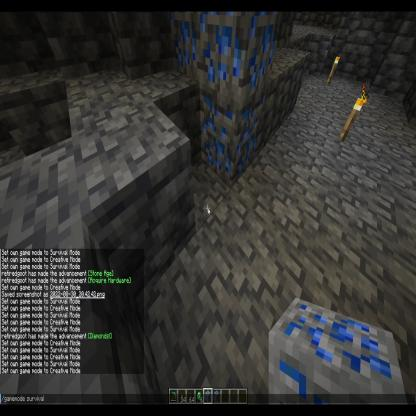lapis ore: (264, 296, 409, 399), (197, 5, 279, 103), (198, 91, 266, 190), (168, 10, 198, 90)
